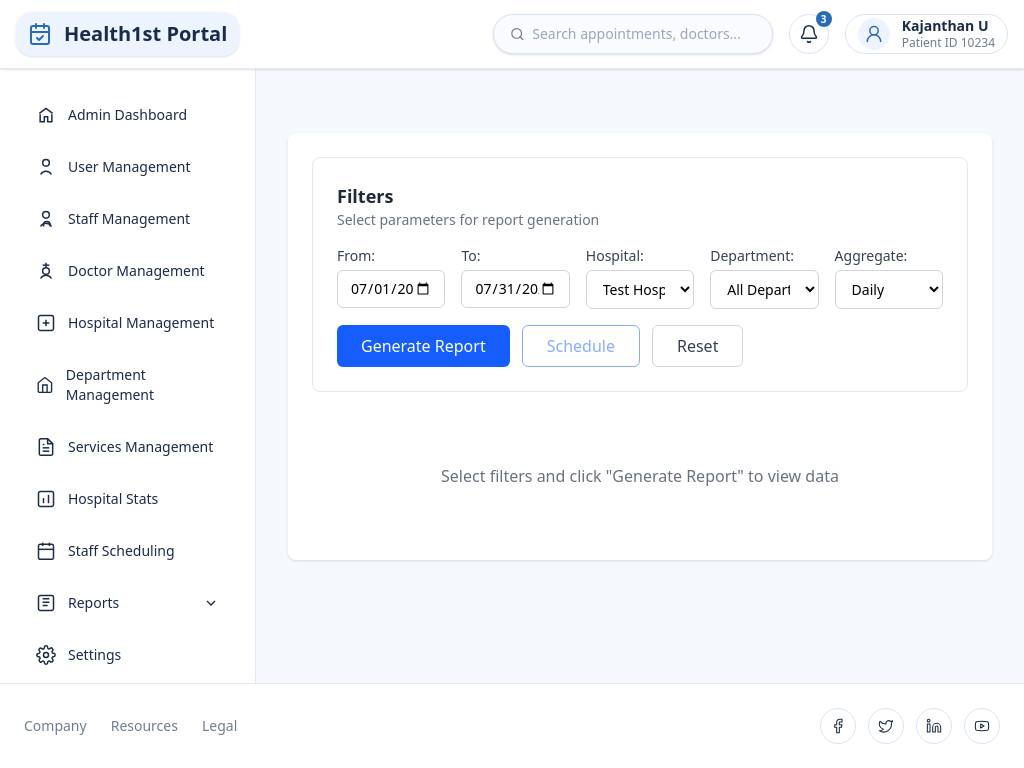
Reports page › generates and displays report results
Click generate
Click the button "Generate Report".
click(423, 346)  # box top-left (337, 325), bottom-right (510, 367)
(page scrolled)
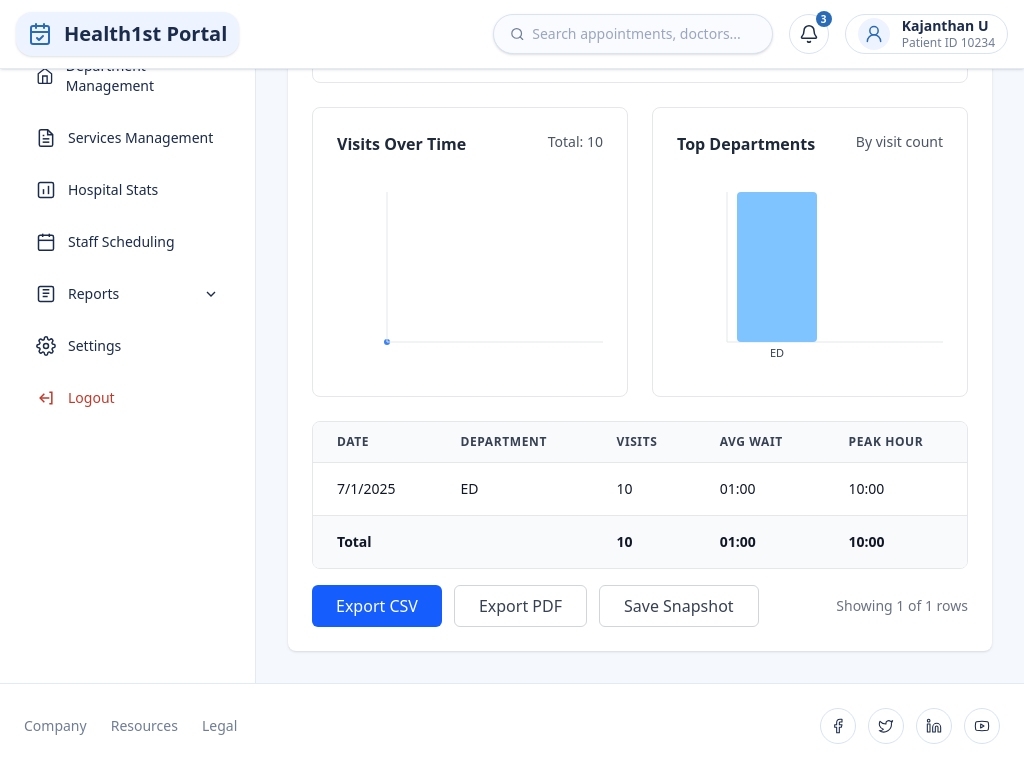
Now the text "ED" is shown, box top-left (436, 462), bottom-right (592, 516)
Now the text "10" in the row of "7/1/2025" is shown, box top-left (616, 479), bottom-right (632, 498)
Now the text "Total" is shown, box top-left (313, 516), bottom-right (436, 568)
